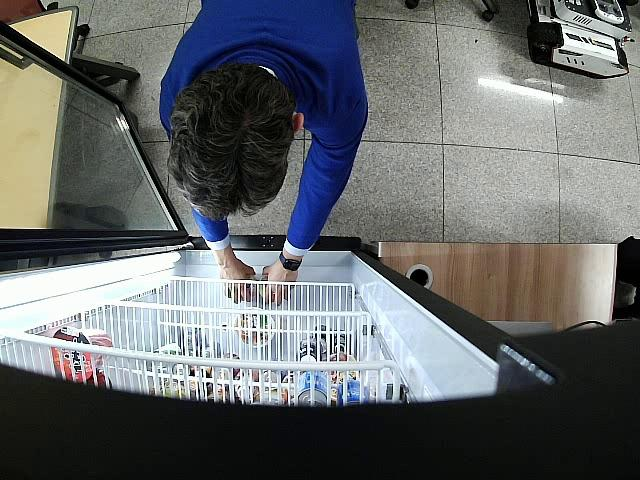00_hand: (219, 253, 256, 304), (262, 260, 298, 307)
04_chapagetti_S: (229, 275, 257, 300), (259, 274, 276, 302)
